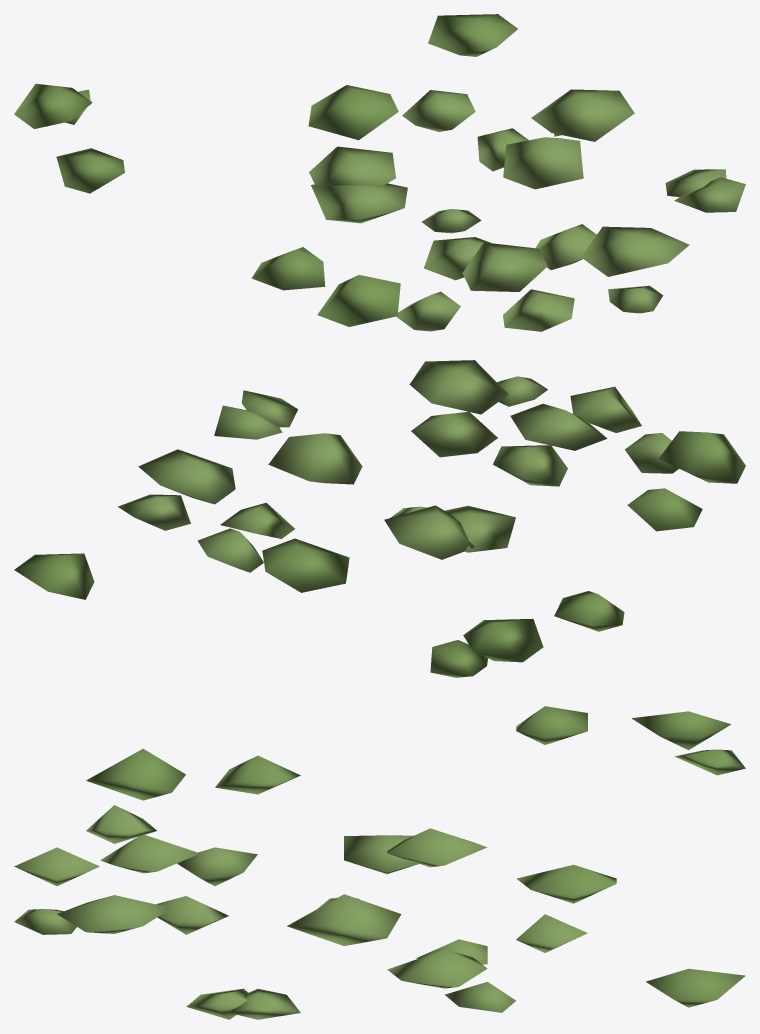
Rendered from canopy-2-0-7.glb.
3 views of the same model, one above another, from view 1: azimuth 30°, elevation 25°; view 2: azimuth 150°, elevation 25°; view 3: azimuth 270°, elevation 25° (orthographic). The views are drawn at different scales.
Size of the model in its own units: 112 by 17.5 by 128.
Materials: 1 (1 with a texture image).
